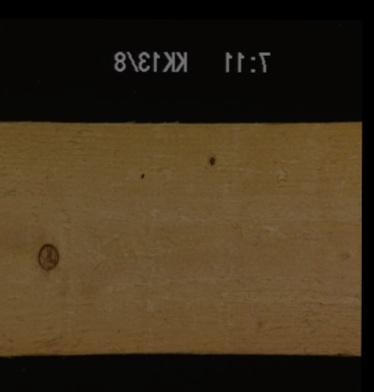dry_knot: (35, 241, 61, 271)
small_knot: (206, 151, 217, 168)
